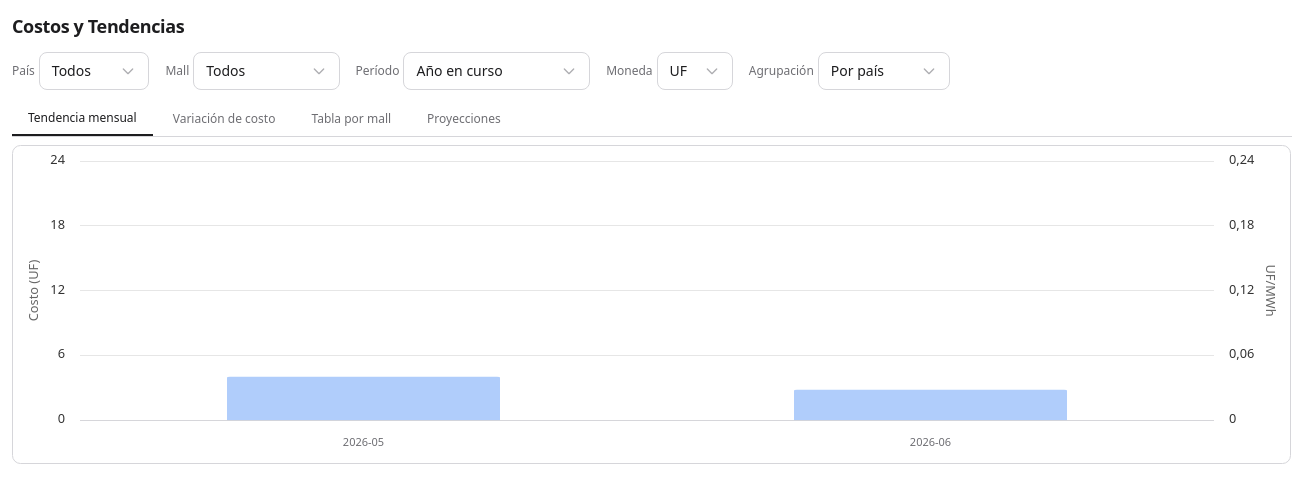
Test: CostosTendenciasPage › tabs › shows waterfall on variation tab click
Step 1. Click the button "Variación de costo" → (224, 119), box x1=157 y1=102 x2=292 y2=136
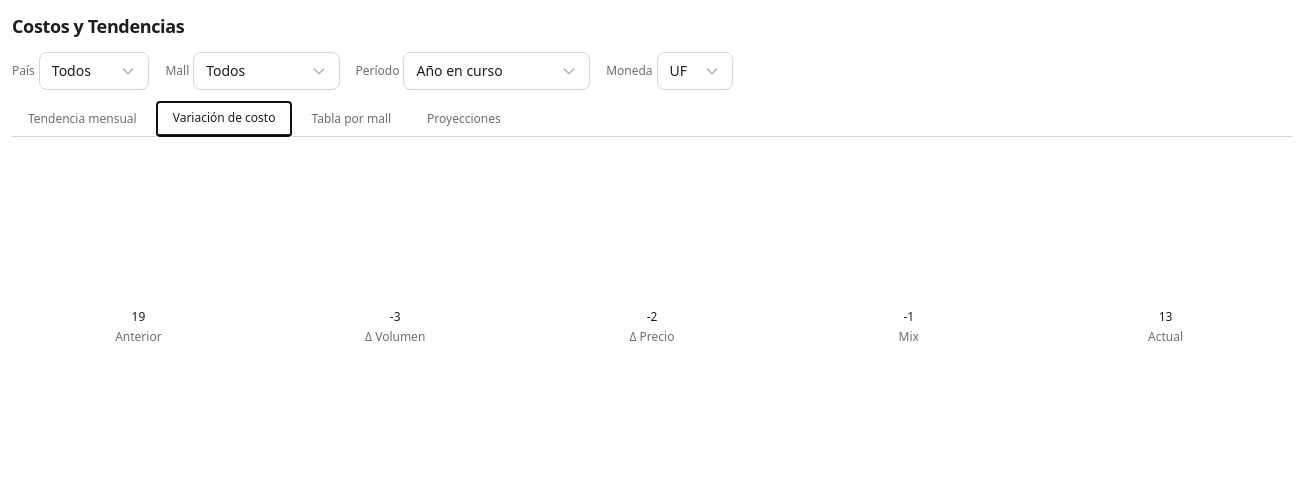
expect the text "Anterior" is shown: met, box x1=115 y1=329 x2=162 y2=345
expect the text "Actual" is shown: met, box x1=1148 y1=329 x2=1183 y2=345
